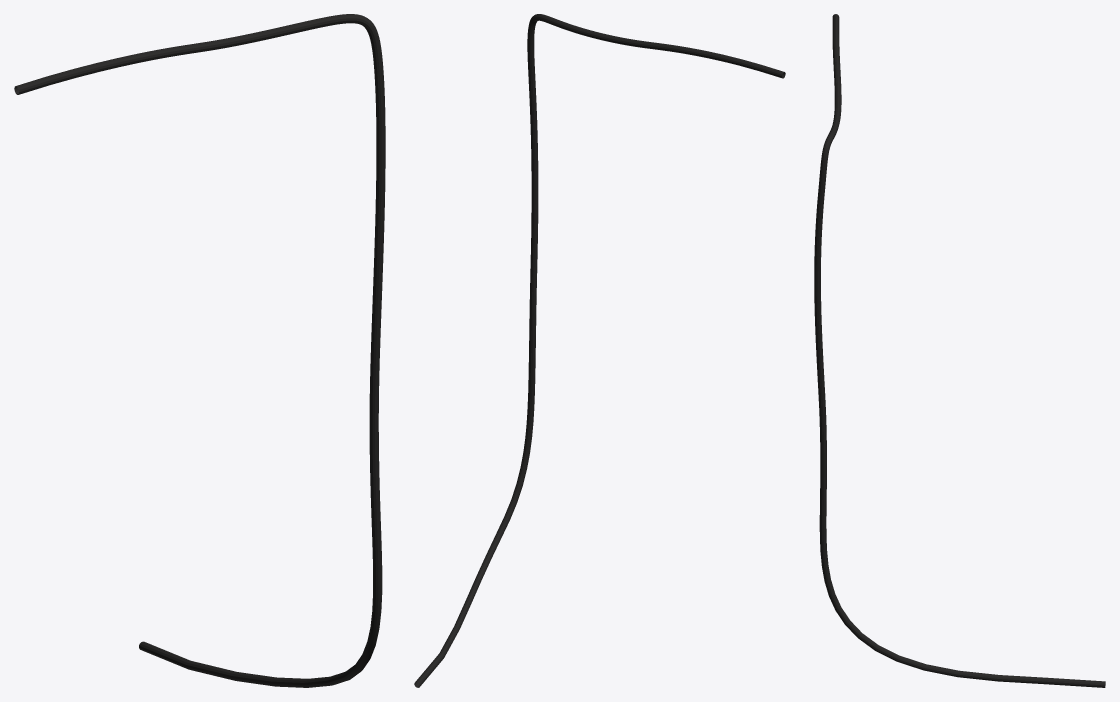
The picture shows the model from 3 angles, left to right: view 1: azimuth 30°, elevation 25°; view 2: azimuth 150°, elevation 25°; view 3: azimuth 270°, elevation 25°; orthographic projection. The views are drawn at different scales.
Visible parts, largest first — view 1: Cube.027; view 2: Cube.027; view 3: Cube.027.
Part boxes in pixels (box(x1,y1,x2,y2)): Cube.027: box(14, 14, 385, 687); Cube.027: box(414, 14, 785, 687); Cube.027: box(814, 14, 1105, 687).
Size of the model in its own units: 160 by 329 by 154.
